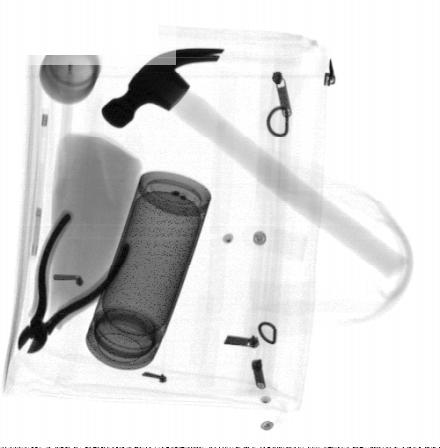Hammer: (101, 46, 405, 278)
Pliers: (17, 208, 134, 355)
